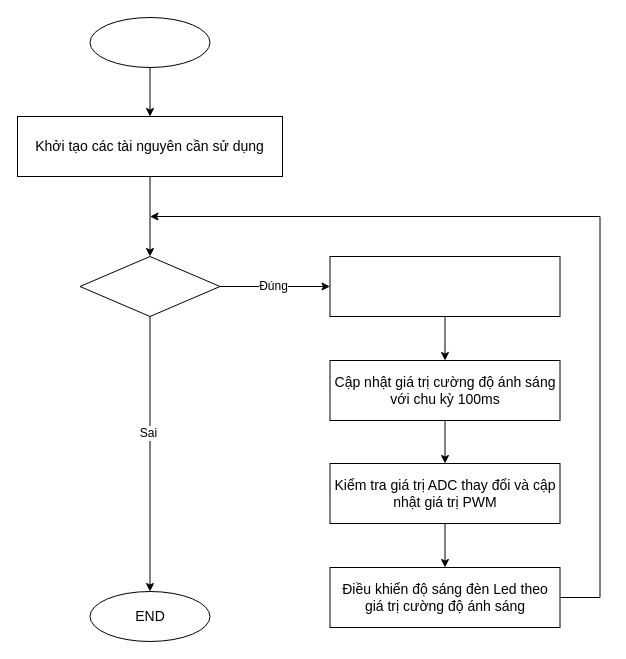
This 626x659 diagram has some shape labels left out. The centre of each missing label's shape, as x and y in pixels:
"Lấy và chuyển đổi giá trị cường độ ánh sáng" goes at [444,286].
"START" goes at [149,42].
"true" goes at [149,286].
